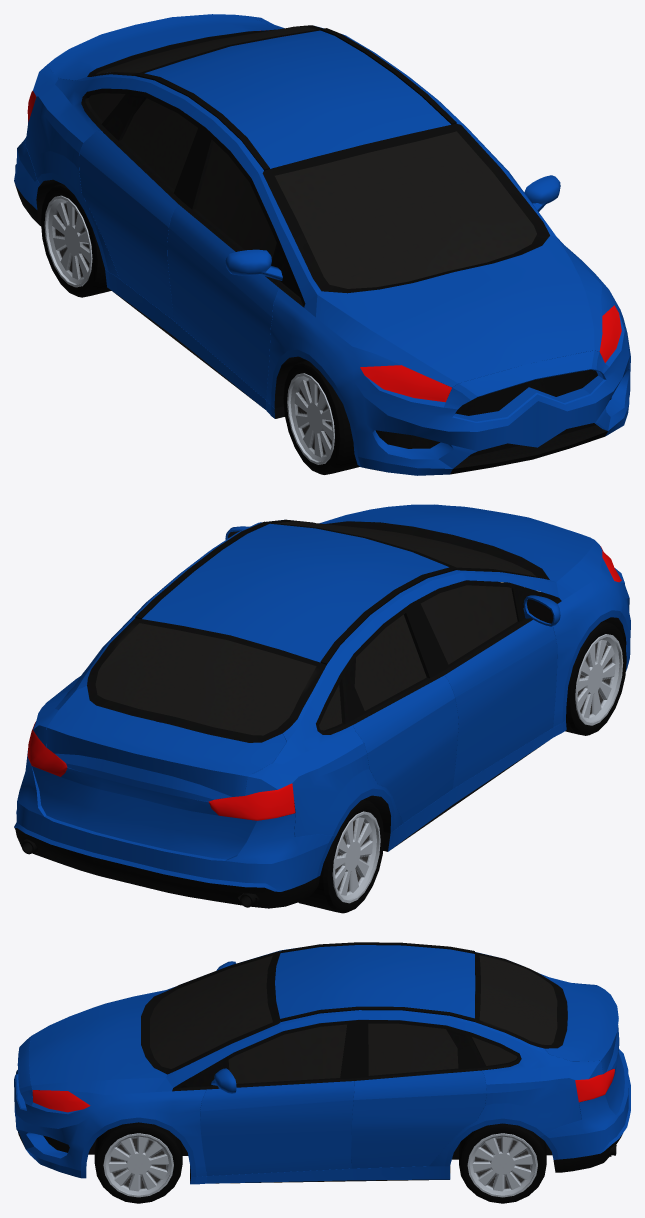
Rendered from Forfocu.fbx.
3 views of the same model, one above another, from view 1: azimuth 30°, elevation 25°; view 2: azimuth 150°, elevation 25°; view 3: azimuth 270°, elevation 25° (orthographic). The views are drawn at different scales.
Parts seen in each view (by area): view 1: polySurface6z, pCylinder3z, pCylinder4z; view 2: polySurface6z, pCylinder4z, pCylinder3z; view 3: polySurface6z, pCylinder2z, pCylinder1z.
Part boxes in pixels (x1,y1,x2,y2): polySurface6z: (14,14,630,475); pCylinder3z: (283,360,359,474); pCylinder4z: (41,183,111,297); polySurface6z: (14,504,630,908); pCylinder4z: (298,799,384,913); pCylinder3z: (565,621,626,735); polySurface6z: (14,942,630,1184); pCylinder2z: (94,1122,182,1203); pCylinder1z: (459,1123,546,1203).
Bounding box in the file's own units: 19.37 × 13.47 × 41.56.
